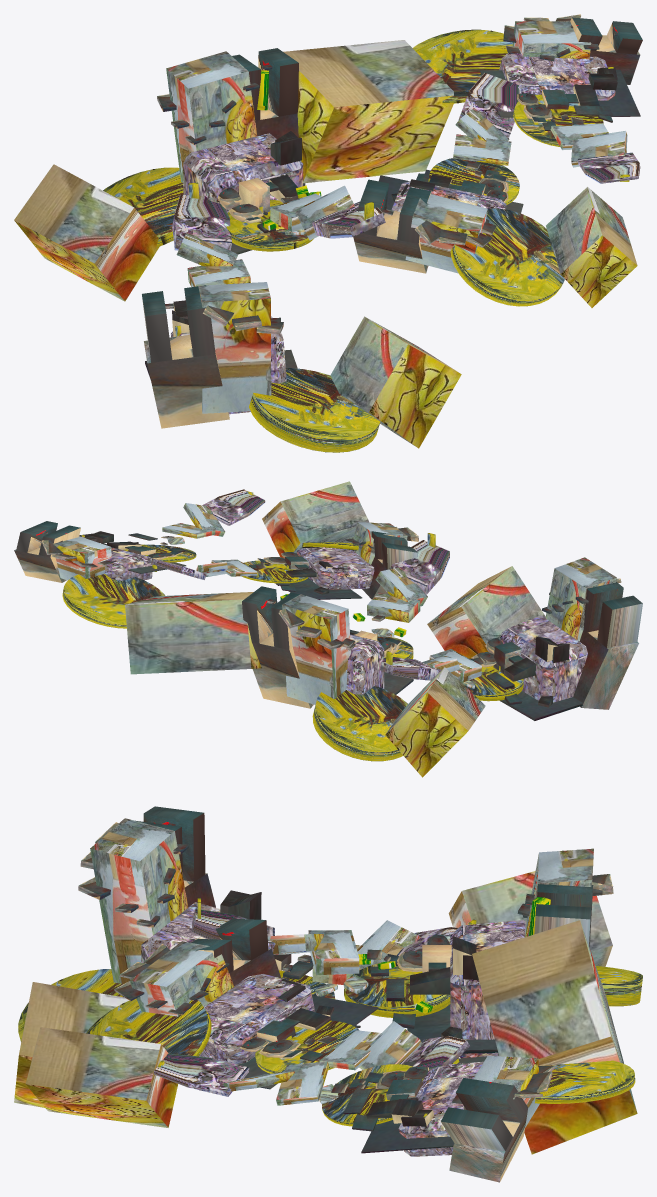
File: level_1.glb
3 views of the same model, one above another, from view 1: azimuth 30°, elevation 25°; view 2: azimuth 150°, elevation 25°; view 3: azimuth 270°, elevation 25° (orthographic). The views are drawn at different scales.
Parts seen in each view (by area): view 1: Cube.099, Cube.019, Cube.059, Cylinder.007, Cylinder.003, Cube.002, Cube.051, Cube.127, Cube.052, Cube.001, Cylinder.005, Cylinder.001 (+32 smaller); view 2: Cube.099, Cube.019, Cube.059, Cube.002, Cylinder.001, Cube.127, Cube.050, Cylinder.005, Cube.052, Cube.051, Cube.118, Cube.011 (+31 smaller); view 3: Cube.099, Cube.127, Cube.051, Cube.118, Cube.059, Cube.119, Cylinder.007, Cube.019, Cube.001, Cylinder.005, Cube.090, Cylinder (+37 smaller).
Part boxes in pixels (box(x1,y1,x2,y2)): Cube.099: box(283, 40, 453, 183); Cube.019: box(14, 164, 159, 301); Cube.059: box(330, 316, 461, 448); Cylinder.007: box(450, 208, 564, 306); Cylinder.003: box(249, 368, 380, 452); Cube.002: box(166, 51, 257, 182); Cube.051: box(198, 282, 271, 413); Cube.127: box(546, 187, 637, 307); Cube.052: box(144, 335, 229, 428); Cube.001: box(183, 133, 303, 212); Cylinder.005: box(412, 29, 512, 103); Cylinder.001: box(103, 167, 183, 247); Cube.099: box(125, 592, 261, 674); Cube.019: box(385, 667, 485, 777); Cube.059: box(427, 566, 545, 658); Cube.002: box(282, 594, 350, 704); Cylinder.001: box(312, 686, 407, 761); Cube.127: box(262, 481, 369, 558); Cube.050: box(500, 615, 587, 702); Cylinder.005: box(62, 574, 165, 628); Cube.052: box(573, 629, 638, 709); Cube.051: box(545, 557, 616, 641); Cube.118: box(297, 547, 374, 589); Cube.011: box(252, 633, 313, 708); Cube.099: box(472, 920, 637, 1154); Cube.127: box(25, 1027, 177, 1127); Cube.051: box(90, 818, 188, 983); Cube.118: box(199, 974, 315, 1064); Cube.059: box(14, 982, 141, 1124); Cube.119: box(129, 941, 234, 1016); Cylinder.007: box(86, 998, 211, 1056); Cube.019: box(448, 871, 612, 966); Cube.001: box(450, 920, 525, 1058); Cylinder.005: box(535, 1060, 635, 1103); Cube.090: box(398, 1061, 483, 1156); Cylinder: box(344, 963, 450, 1017).
Size of the model in its own units: 528 by 178 by 380.
5 materials, 5 textured.
